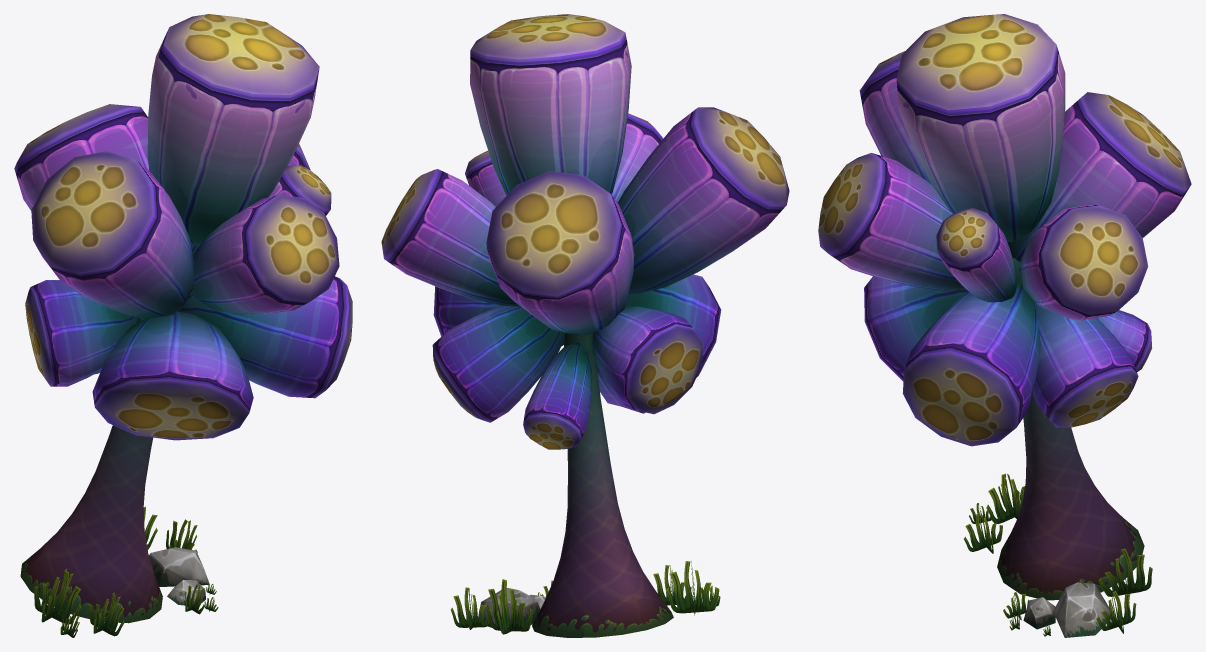
The model's file is Tree5.fbx.
3 views of the same model, side by side, from view 1: azimuth 30°, elevation 25°; view 2: azimuth 150°, elevation 25°; view 3: azimuth 270°, elevation 25° (orthographic). The views are drawn at different scales.
Parts seen in each view (by area): view 1: polySurface936; view 2: polySurface936; view 3: polySurface936.
Boxes of the visible parts, x1=… form: polySurface936: x1=14, y1=14, x2=352, y2=637; polySurface936: x1=381, y1=14, x2=789, y2=637; polySurface936: x1=818, y1=14, x2=1191, y2=637.
Size of the model in its own units: 1.53 by 2.61 by 1.48.
